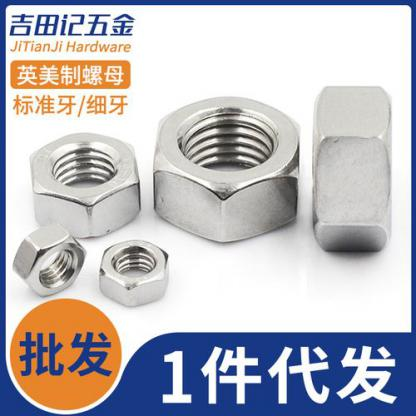FOD: (154, 94, 304, 243), (312, 84, 396, 256), (29, 132, 142, 240), (13, 225, 88, 300), (96, 240, 171, 308)
